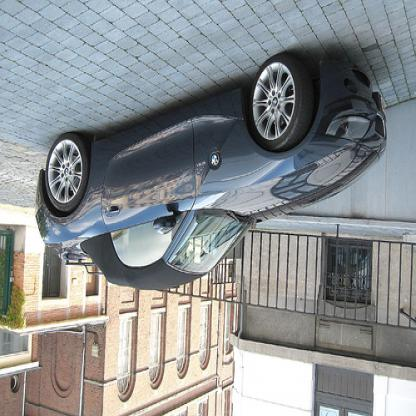car: (37, 54, 390, 294)
